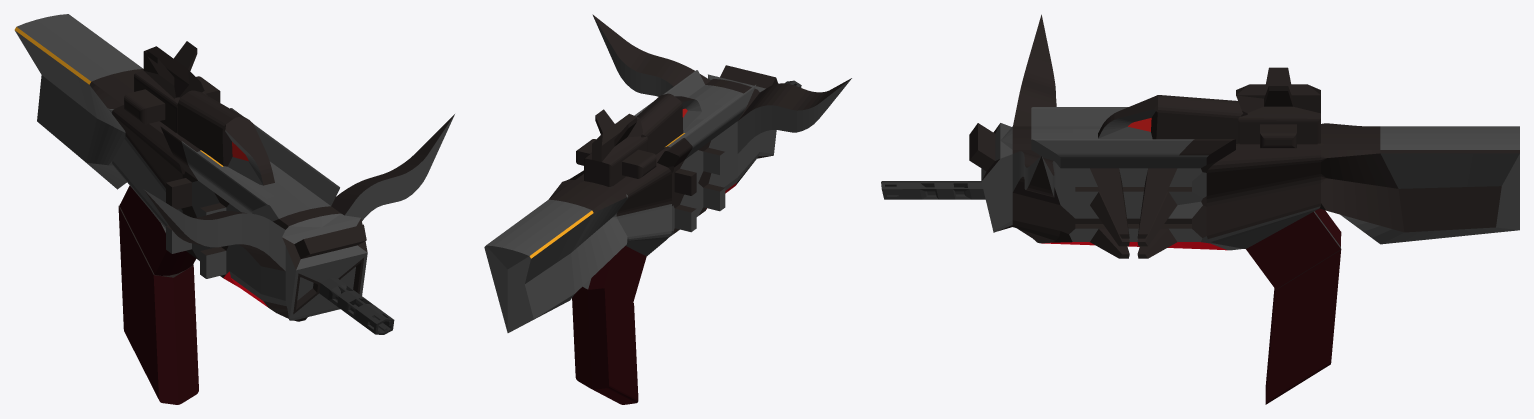
File: Weapon 1.fbx
3 views of the same model, side by side, from view 1: azimuth 30°, elevation 25°; view 2: azimuth 150°, elevation 25°; view 3: azimuth 270°, elevation 25° (orthographic). The views are drawn at different scales.
Visible parts, largest first — view 1: Cube; view 2: Cube; view 3: Cube.
Boxes of the visible parts, <box> form: Cube: <box>14,14,454,404</box>; Cube: <box>484,14,851,404</box>; Cube: <box>881,14,1519,404</box>.
Bounding box in the file's own units: 788 × 845 × 1502.
